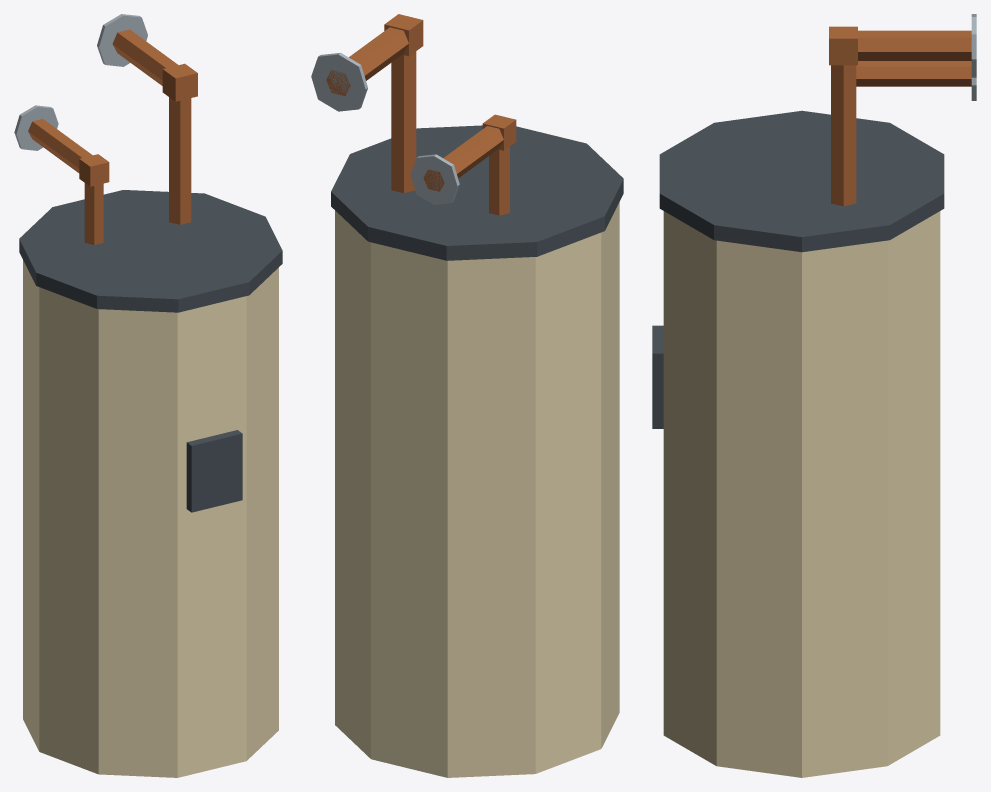
File: GH_Boiler_01.glb
The picture shows the model from 3 angles, left to right: view 1: azimuth 30°, elevation 25°; view 2: azimuth 150°, elevation 25°; view 3: azimuth 270°, elevation 25°; orthographic projection. The views are drawn at different scales.
Visible parts, largest first — view 1: GH_Boiler_01; view 2: GH_Boiler_01; view 3: GH_Boiler_01.
Part boxes in pixels (bbox=[...]): GH_Boiler_01: bbox=[14, 14, 282, 777]; GH_Boiler_01: bbox=[311, 14, 623, 777]; GH_Boiler_01: bbox=[652, 14, 976, 777].
Size of the model in its own units: 0.72 by 1.93 by 0.78.
1 material, 1 textured.
